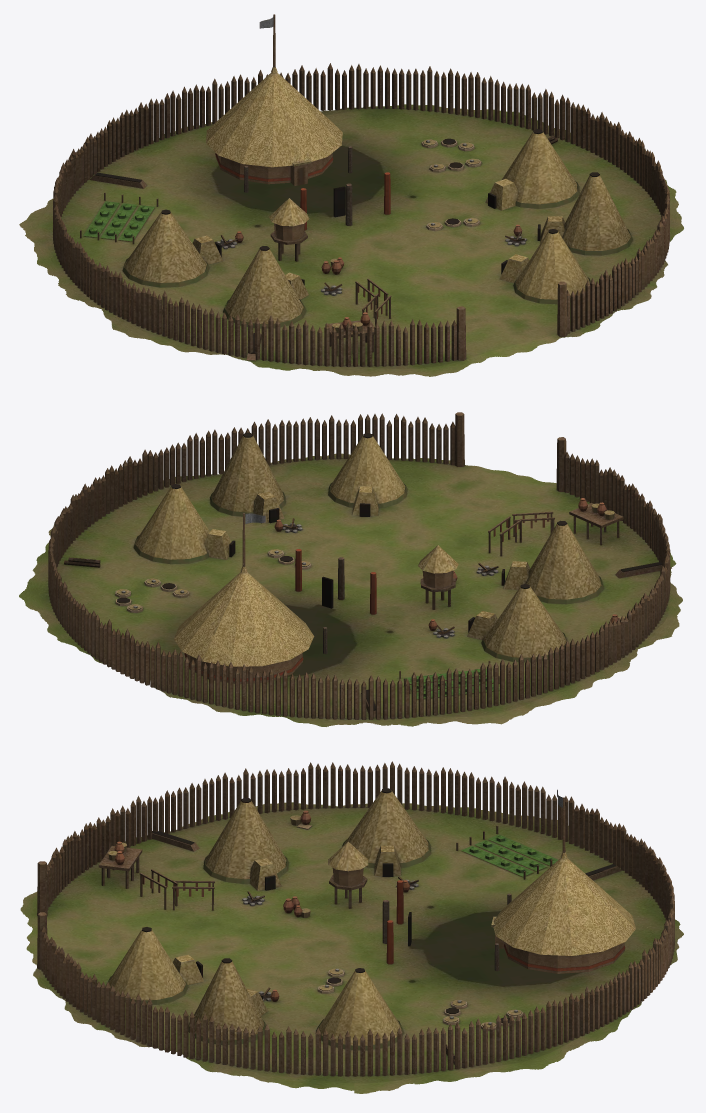
File: stone-town-small-a-korea.glb
3 views of the same model, one above another, from view 1: azimuth 30°, elevation 25°; view 2: azimuth 150°, elevation 25°; view 3: azimuth 270°, elevation 25° (orthographic). The views are drawn at different scales.
Visible parts, largest first — view 1: LOD0; view 2: LOD0; view 3: LOD0.
Part boxes in pixels (<box>): LOD0: <box>19,14,683,376</box>; LOD0: <box>19,412,682,726</box>; LOD0: <box>20,761,683,1093</box>.
Size of what is drawn, in the model's own units: 3.98 by 0.9702 by 3.84.
3 materials, 3 textured.
